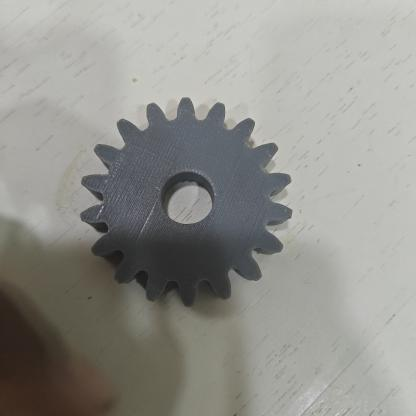gear: (81, 98, 292, 306)
